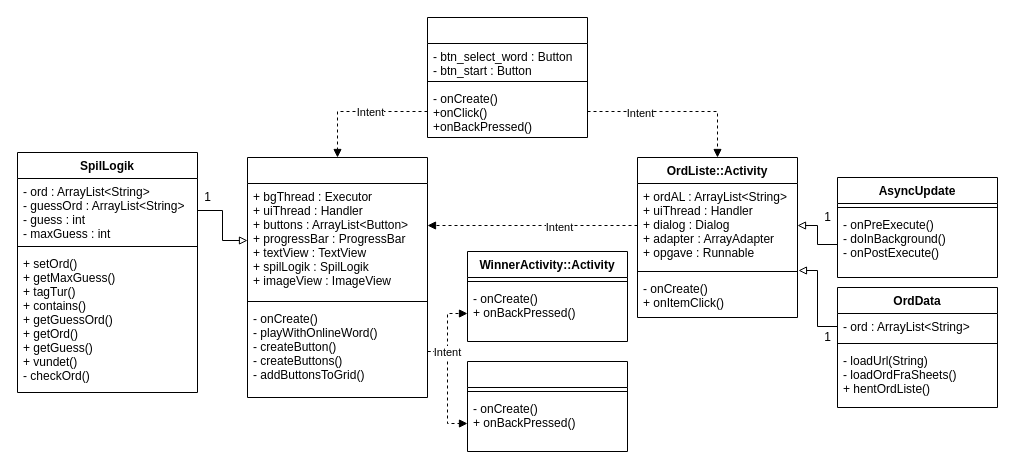
Some shapes in this 1015 by 472 pixel diagram are drawn without their labels. Each missing label, with the box of its shape:
HovedMenu::Activity: (426, 16, 588, 138)
LooserActivity::Activity: (466, 360, 628, 452)
SpilActivity::Activity: (246, 156, 428, 398)
